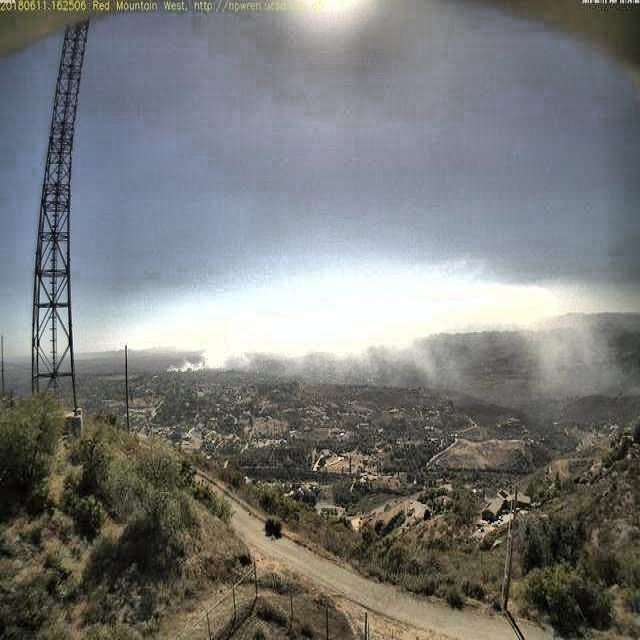smoke: (167, 291, 542, 405)
